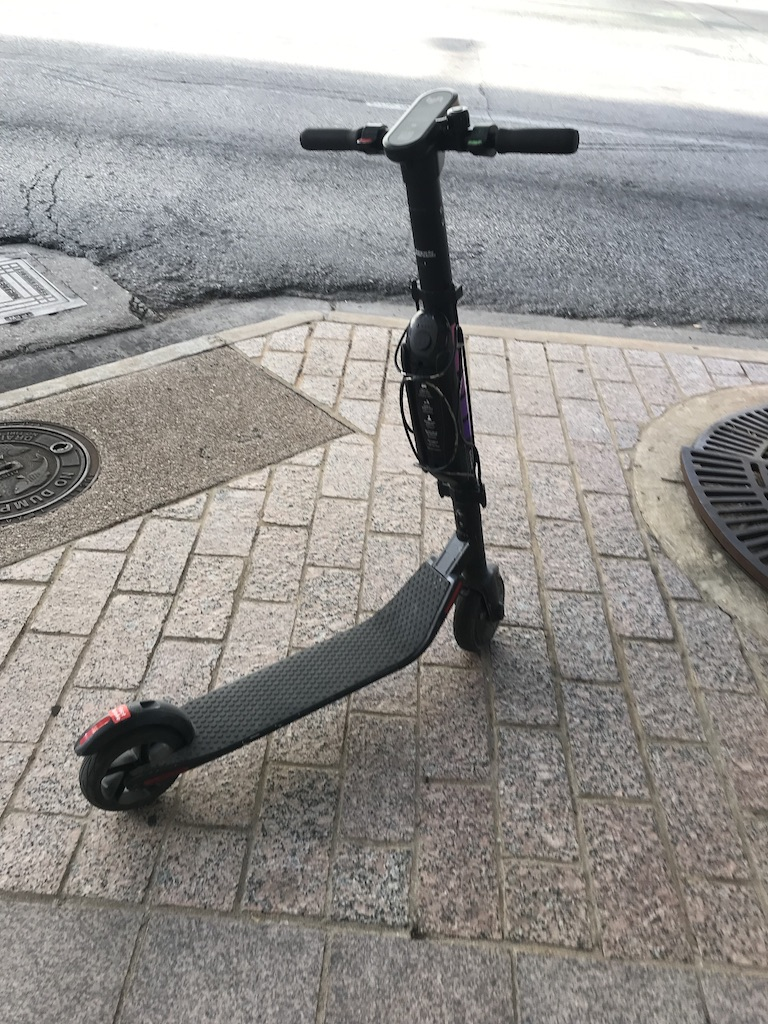scooter: (71, 85, 586, 814)
